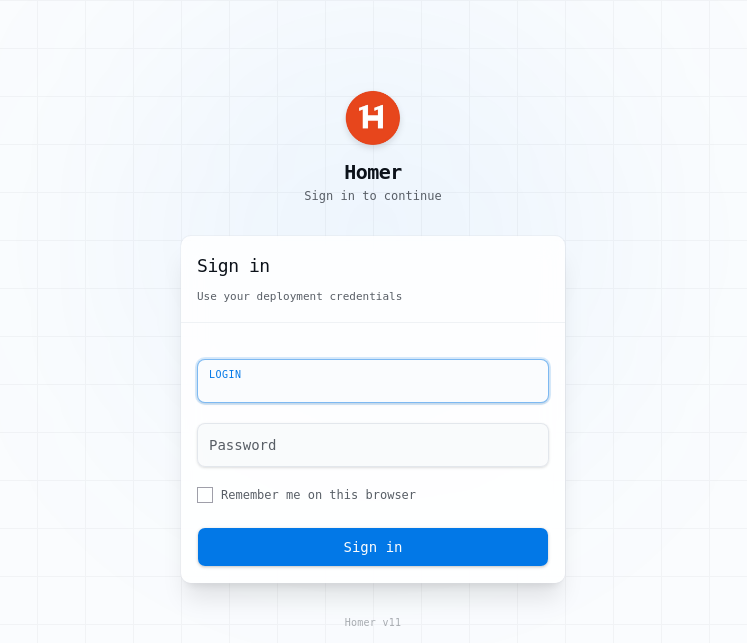
it: App smoke/integration › forces a password change when the session requires it
Type "admin" into the field labelled "Login". click: (373, 381)
box: [197,359,549,403]
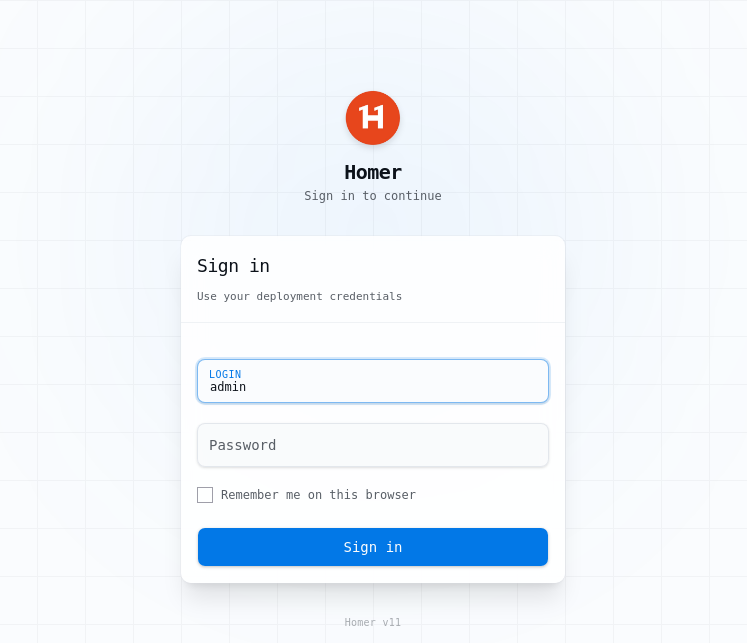
Type "sipcapture" into the password field labelled "Password". click: (373, 445)
box: [197,423,549,467]
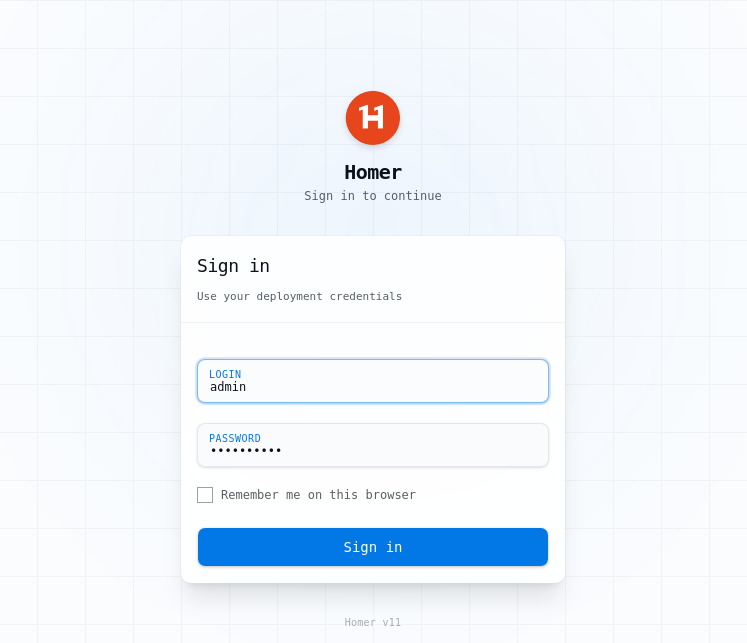
Click the button "Sign in". click: (373, 547)
box: [197,527,549,567]
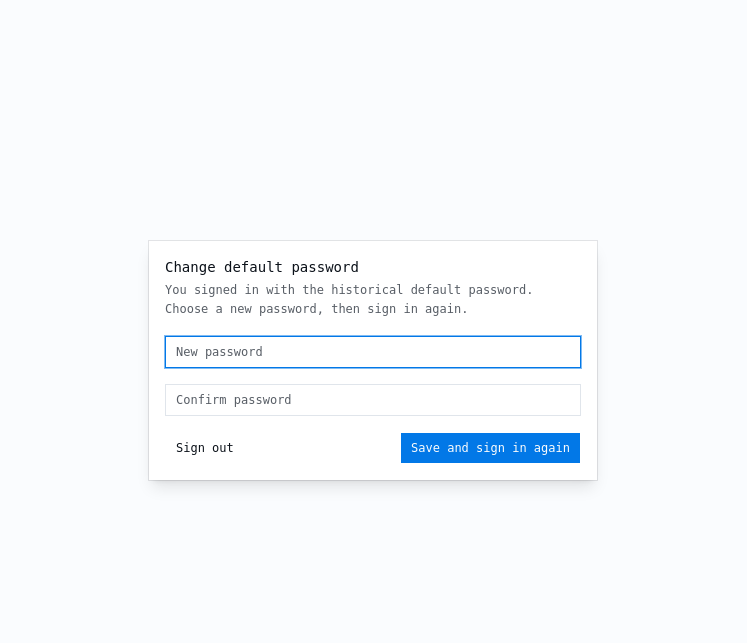
Check: the text "Change default password" is shown, box [165,258,359,274]
Type "newsecret" into the password field with placeholder "New password". click: (373, 352)
box: [165,336,581,368]
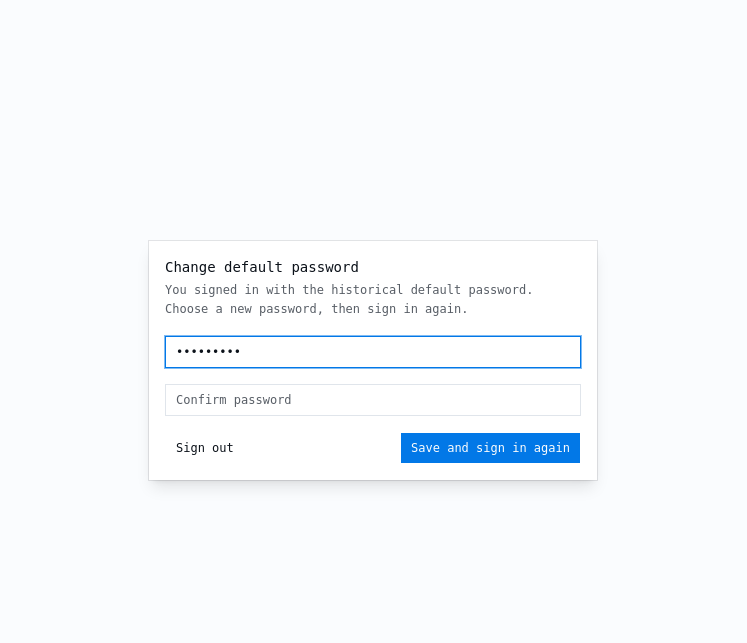
Type "newsecret" into the password field with placeholder "Confirm password". click: (373, 400)
box: [165,384,581,416]
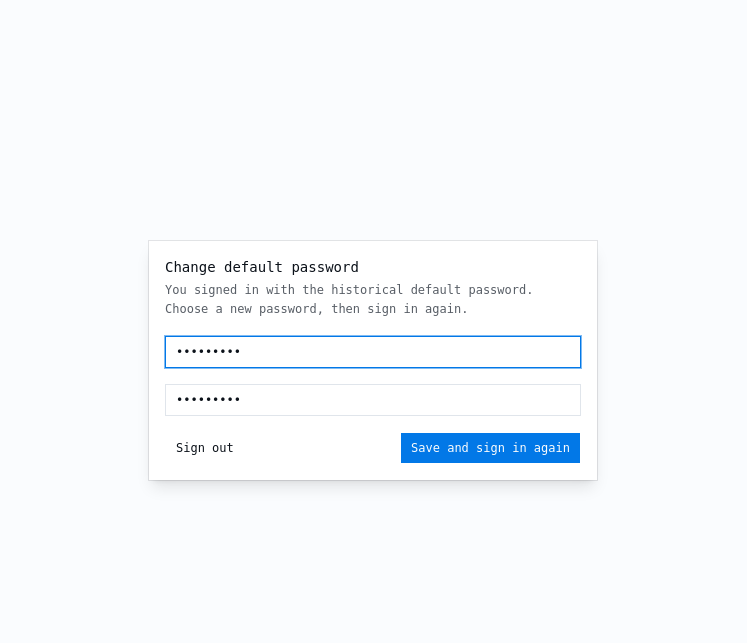
Click the button "Save and sign in again". click: (490, 448)
box: [400,432,581,464]
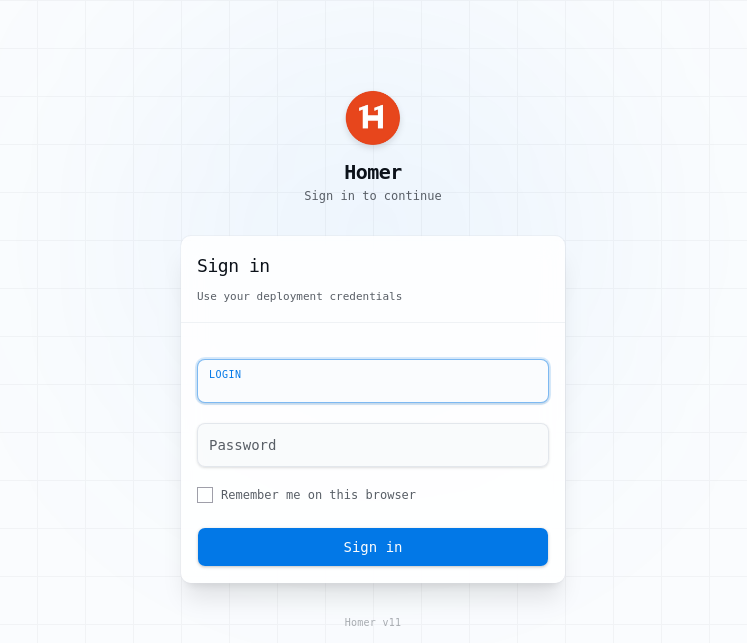
Check: the field labelled "Login" is shown, box [197,359,549,403]
Check: the text "Change default password" is gone
